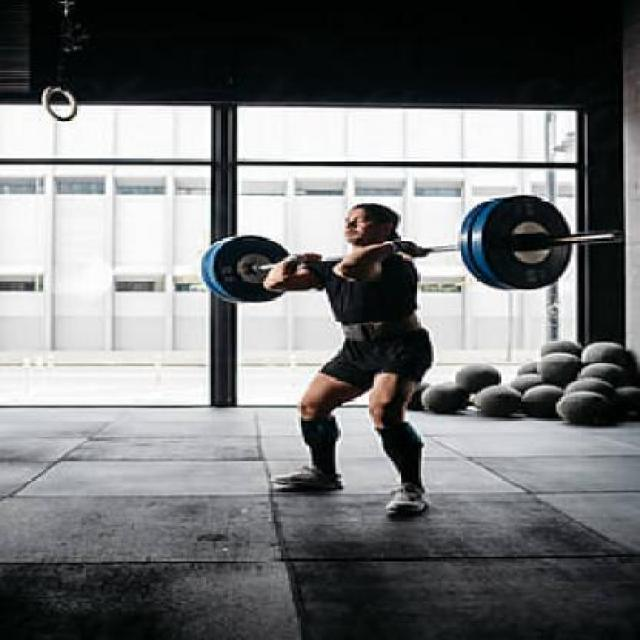barbell: (479, 194, 628, 294)
